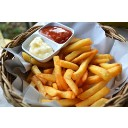frenchfries: (31, 58, 117, 102)
